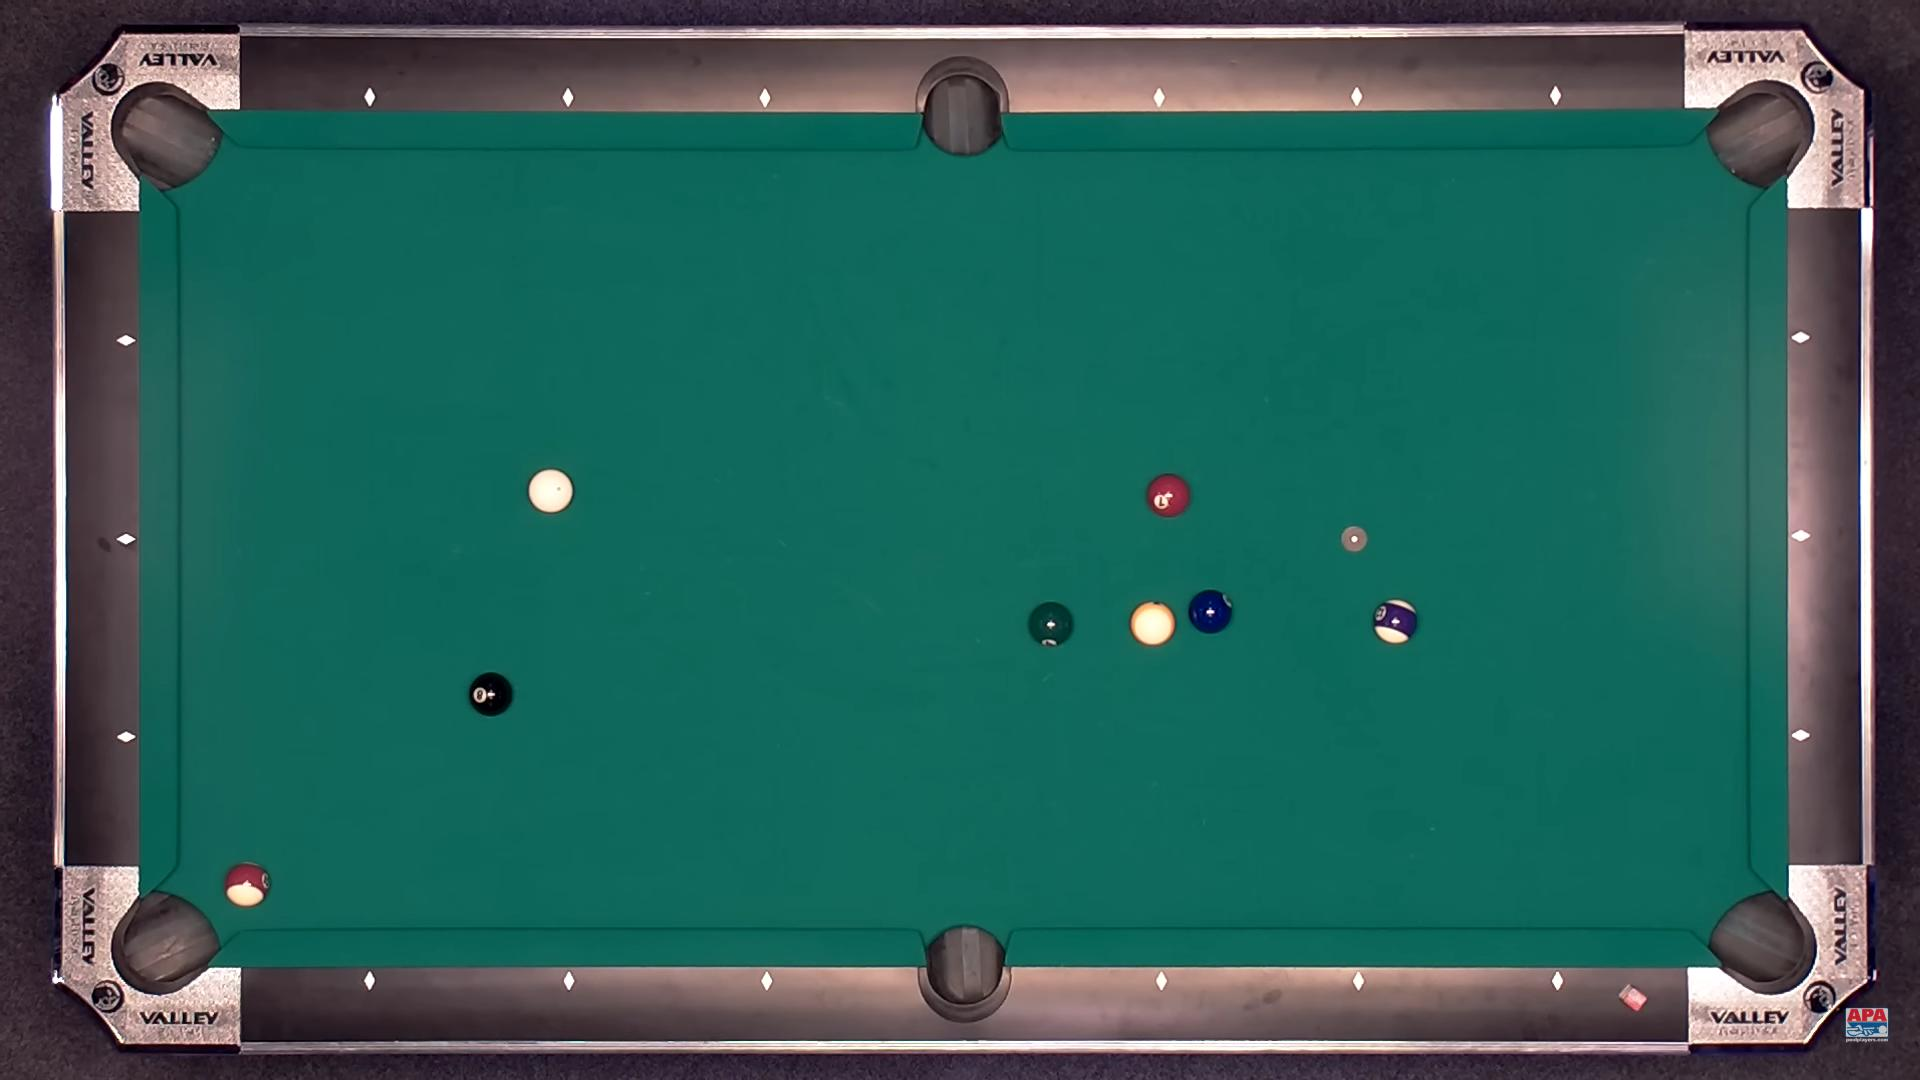Black: (469, 673, 513, 716)
Cue: (527, 468, 574, 513)
Dot: (560, 91, 575, 105), (1548, 88, 1563, 103), (1793, 530, 1808, 545), (1792, 729, 1807, 744), (1352, 975, 1366, 989), (1153, 975, 1167, 989), (562, 975, 576, 989), (119, 731, 133, 745), (364, 91, 377, 105), (760, 91, 773, 105), (1153, 92, 1166, 107), (1349, 88, 1362, 103), (1793, 331, 1807, 345), (1552, 976, 1567, 989), (760, 975, 774, 988), (363, 976, 377, 989), (121, 531, 135, 546), (119, 334, 132, 348)
Solid: (1188, 589, 1233, 633), (1029, 603, 1073, 646), (1146, 473, 1191, 516)
Striped: (224, 861, 272, 906), (1374, 599, 1419, 645), (1130, 601, 1175, 646)
